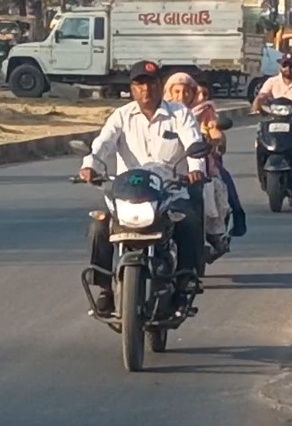BikeWithRider: (60, 47, 237, 377), (132, 64, 248, 288), (235, 52, 292, 232)
NoHelmet: (127, 58, 169, 109), (159, 67, 197, 110), (190, 79, 218, 111), (271, 50, 292, 79)
